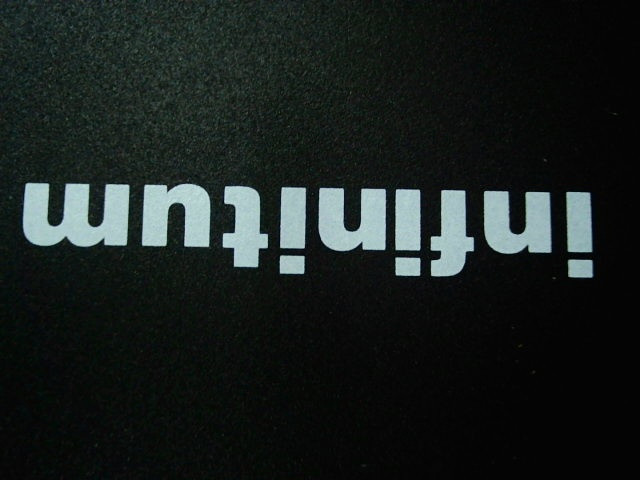BK_infinitum: (13, 161, 624, 308)
